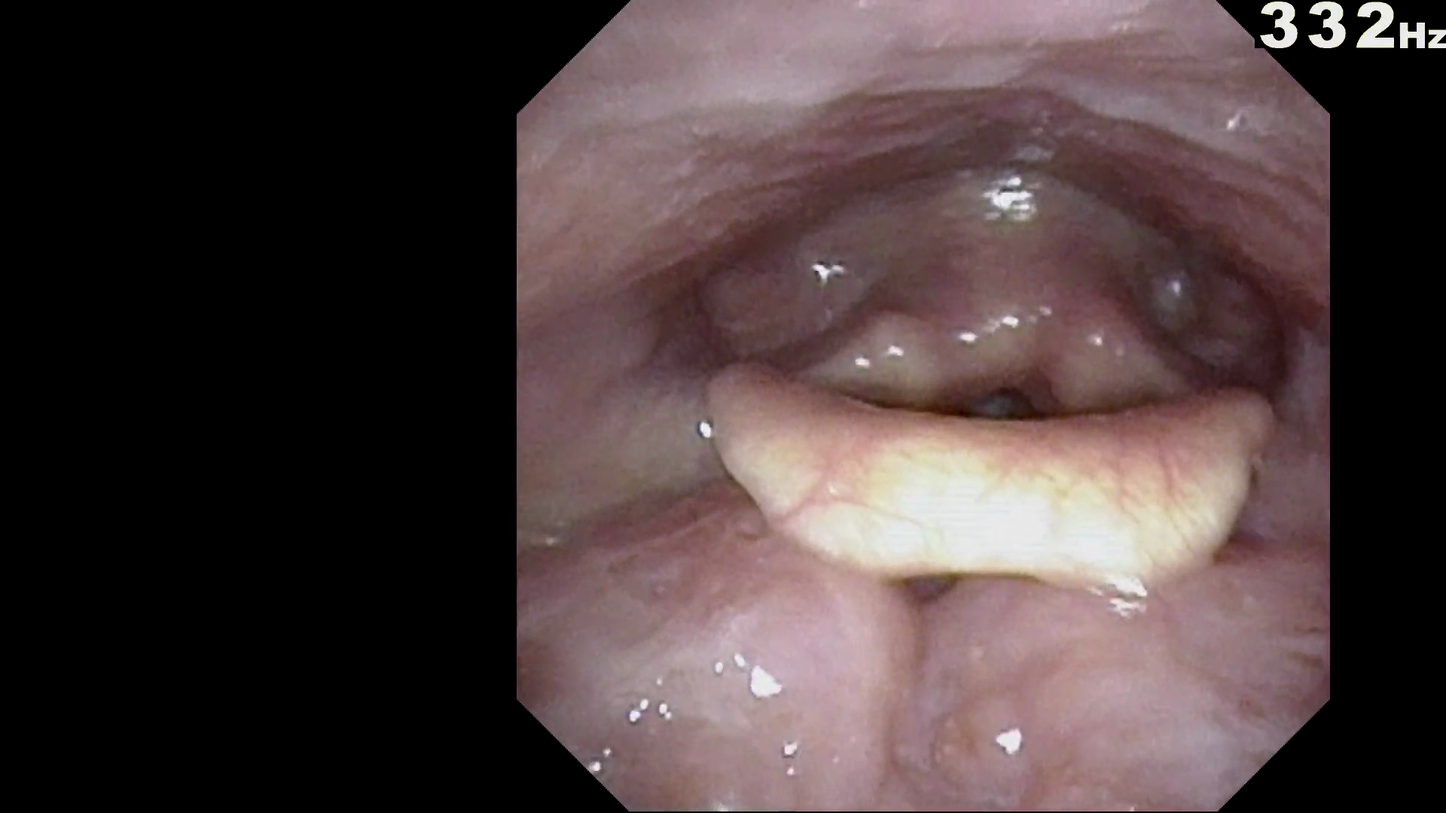epiglottis: (688, 354, 1290, 593)
trachea: (939, 316, 1086, 471)
